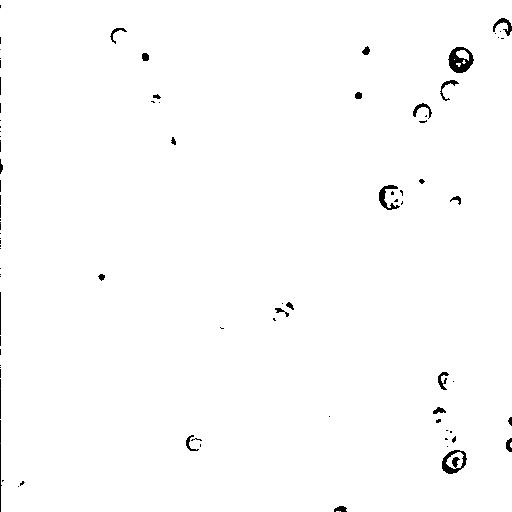micro-algae: (430, 443, 512, 511), (378, 33, 453, 106), (12, 223, 76, 289), (141, 0, 229, 47), (429, 35, 487, 96), (309, 225, 349, 266), (6, 461, 42, 505), (373, 11, 407, 51), (137, 141, 177, 175), (1, 64, 29, 103), (351, 35, 380, 64), (115, 338, 145, 366), (267, 299, 297, 327), (165, 120, 190, 151), (377, 184, 404, 211), (447, 47, 473, 73), (407, 166, 434, 191), (205, 411, 232, 436), (440, 450, 467, 475), (1, 148, 22, 180), (89, 262, 113, 289), (130, 41, 155, 66), (439, 77, 463, 103), (493, 402, 512, 434), (437, 423, 462, 447), (347, 82, 369, 107), (59, 273, 79, 296), (492, 16, 511, 40), (413, 101, 431, 125), (437, 371, 455, 391), (429, 404, 447, 424), (109, 26, 128, 43), (185, 434, 203, 451), (13, 1, 49, 9), (447, 194, 463, 210), (97, 503, 125, 512), (329, 503, 350, 511), (503, 435, 511, 455)
